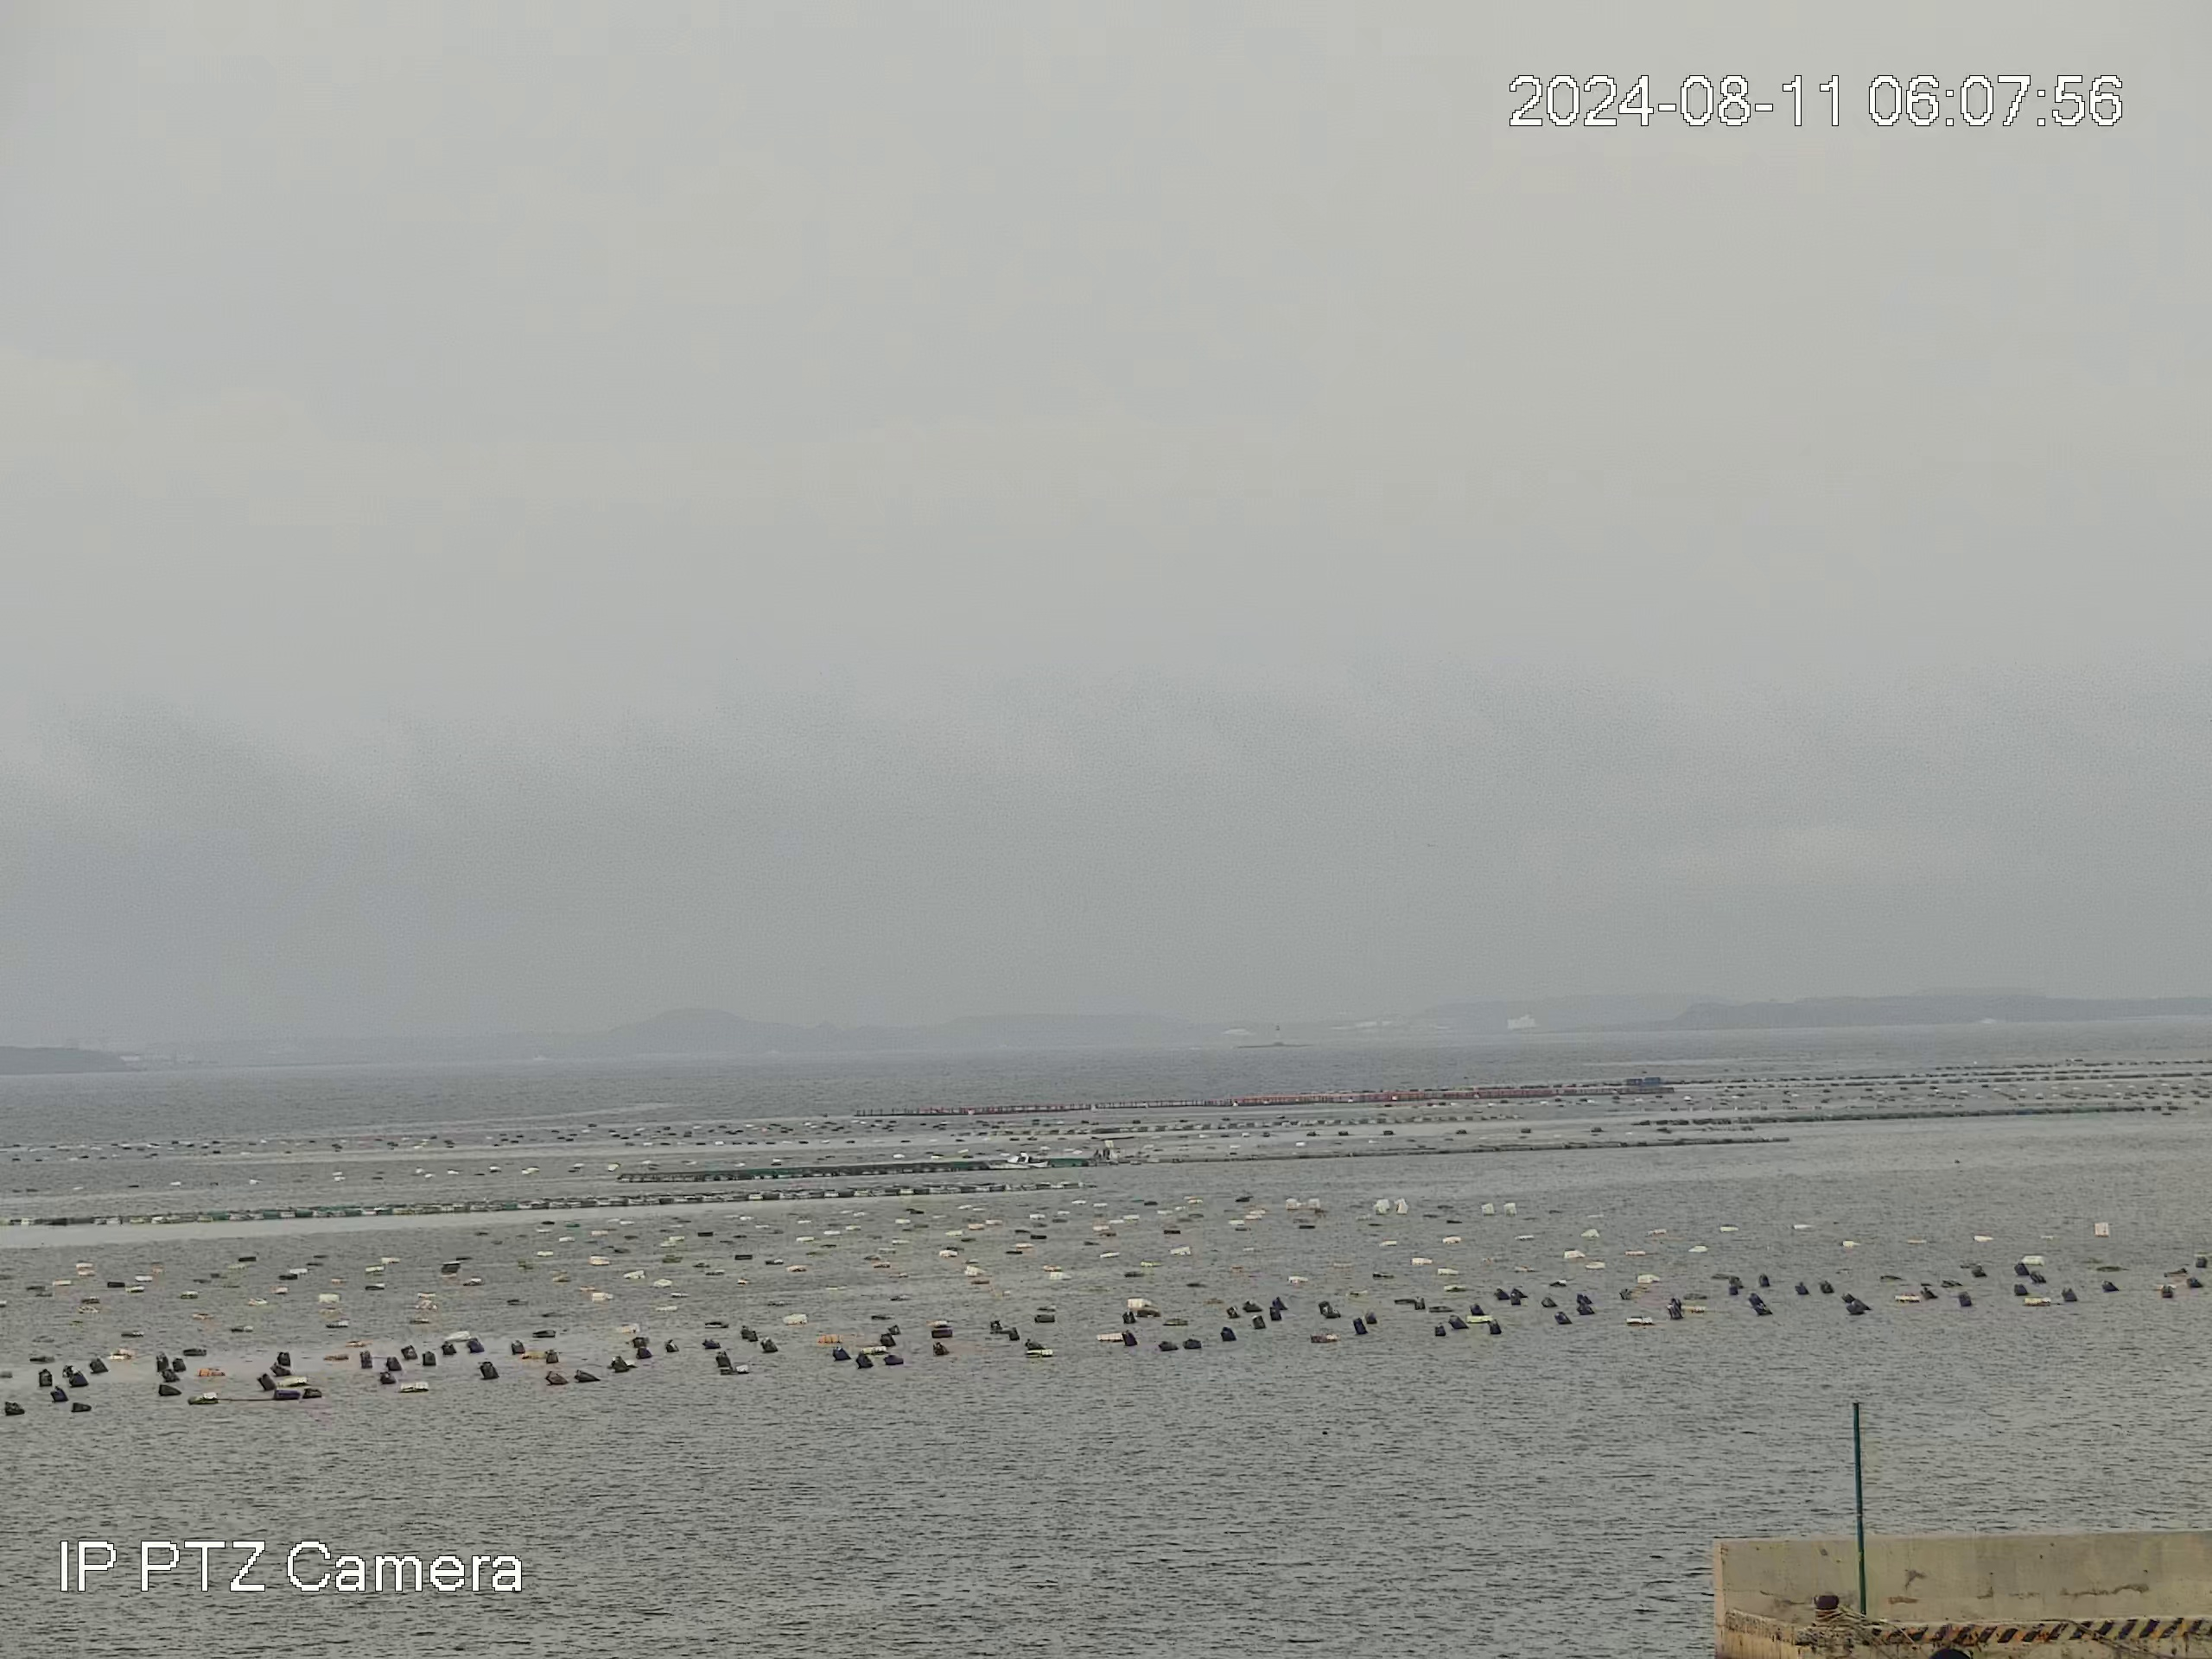boat: (981, 1150, 1052, 1171)
